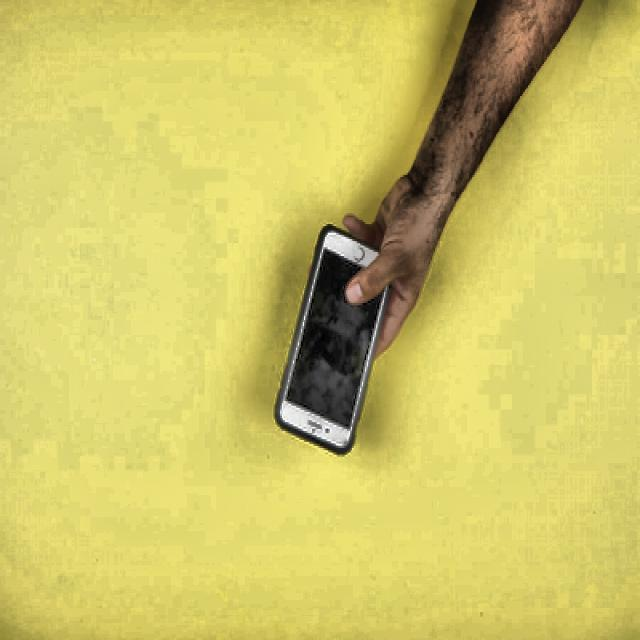Phone: (274, 224, 394, 457)
